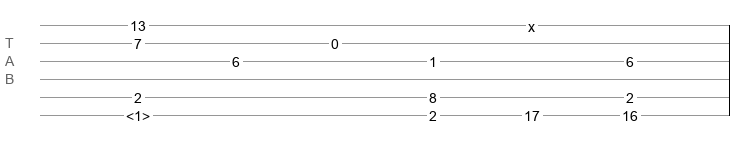0: (331, 36, 339, 46)
1: (429, 54, 437, 64)
13: (130, 18, 146, 28)
16: (622, 108, 638, 118)
17: (524, 108, 540, 118)
2: (134, 90, 142, 100), (429, 108, 437, 118), (626, 90, 634, 100)
6: (232, 54, 240, 64), (626, 54, 634, 64)
7: (134, 36, 142, 46)
8: (429, 90, 437, 100)
harmonic: (126, 108, 150, 118)
x: (528, 19, 535, 27)
